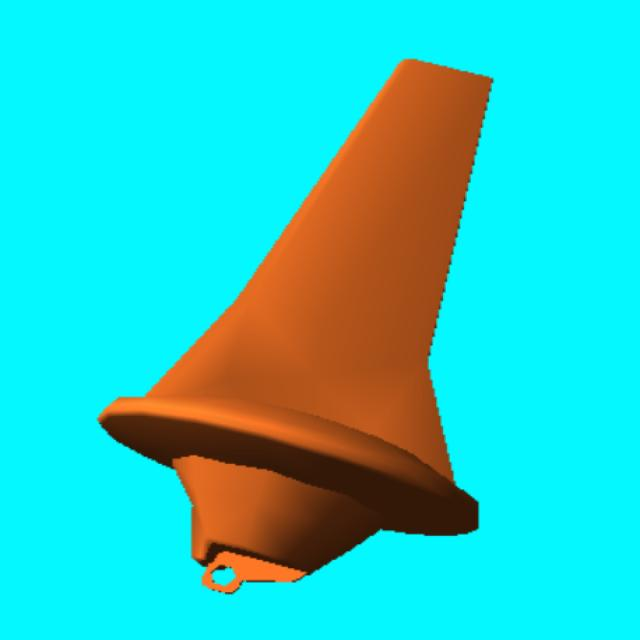OrangeBuoy: (99, 60, 491, 592)
